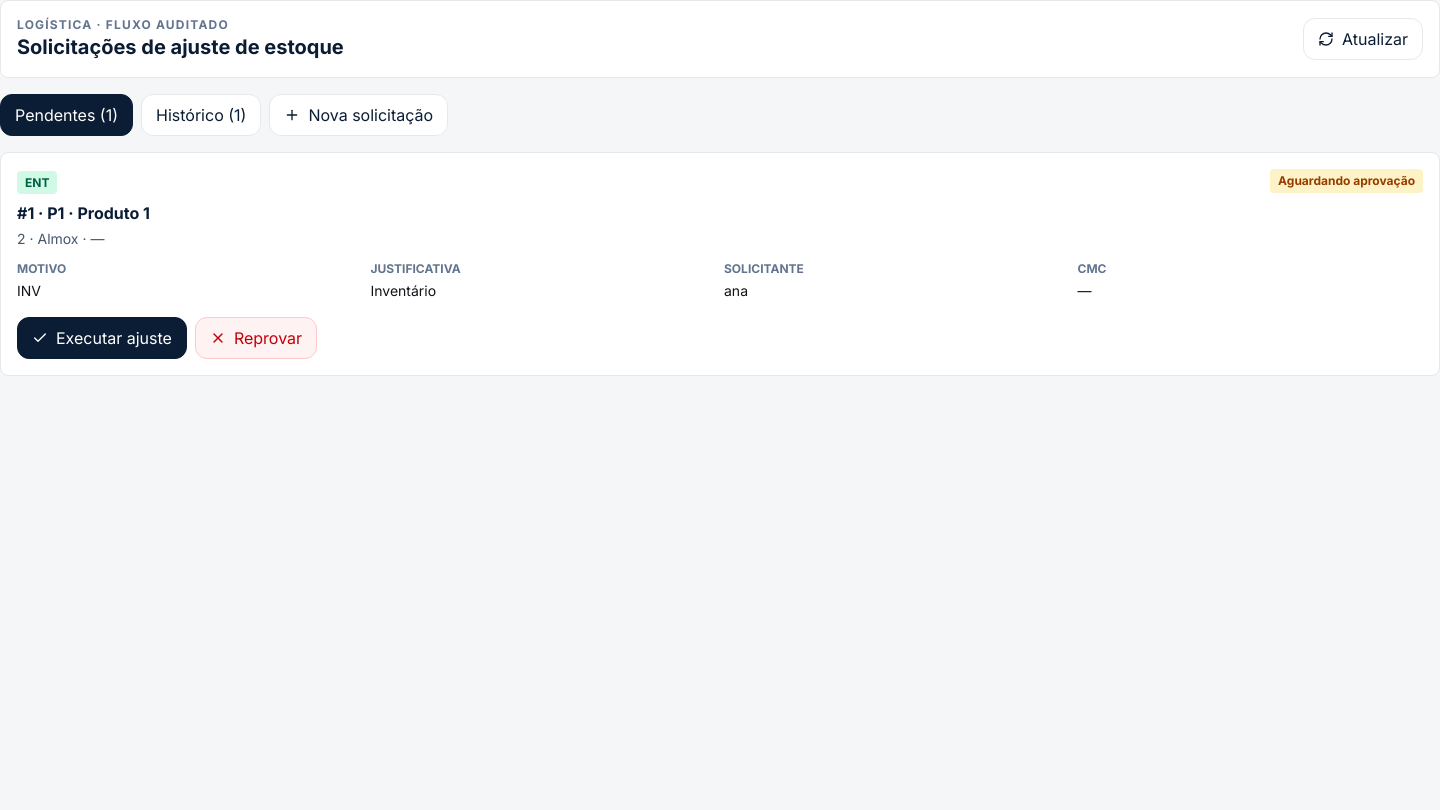
StockAdjustmentScreen › abre decisão sem executar escrita e exige frase exata
The image size is (1440, 810).
Click the button "Executar ajuste".
click(102, 338)  # box [17,317,187,359]
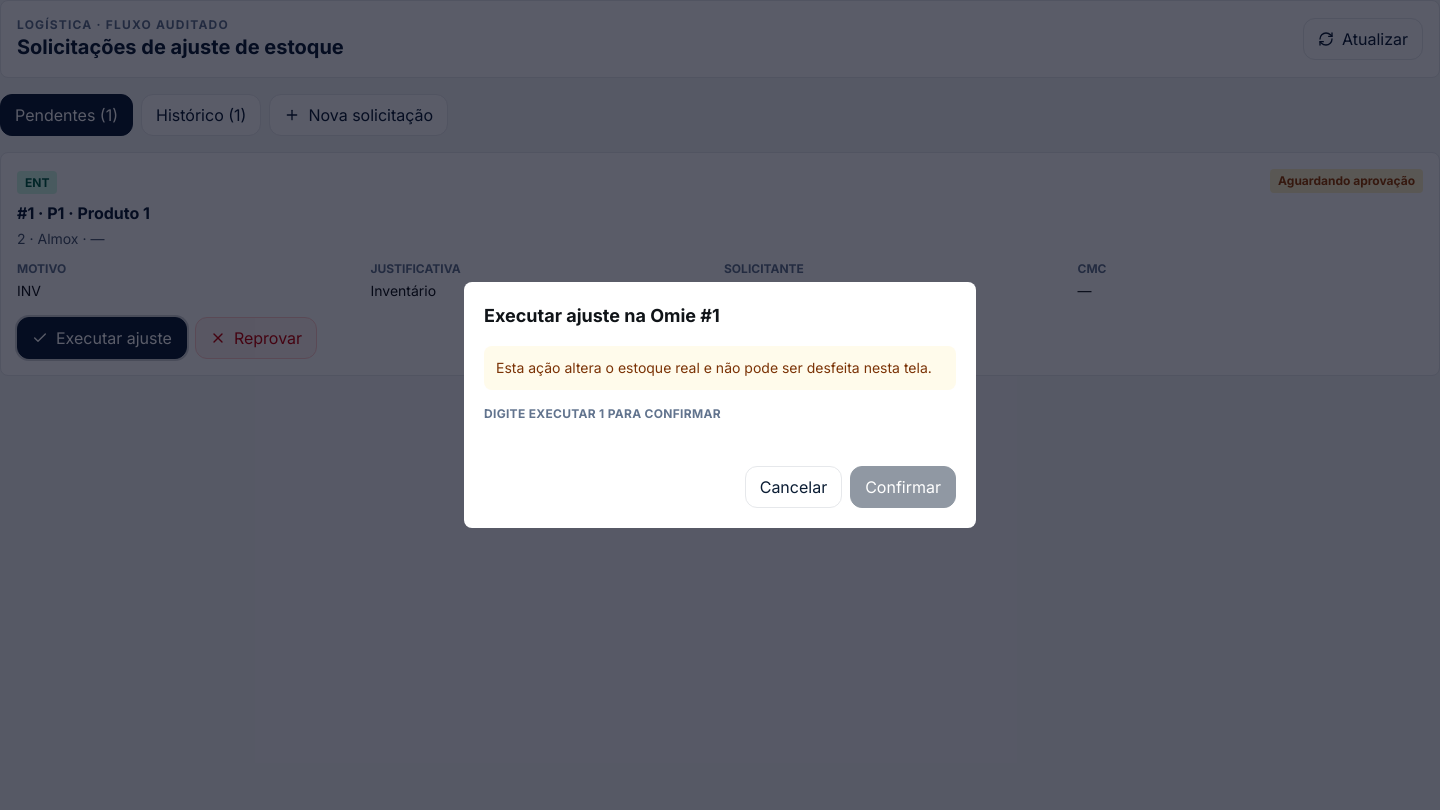
expect the text "altera o estoque real" is shown: met, box [496,359,932,376]
expect the button "Confirmar" is disabled: met, box [850,466,956,508]
